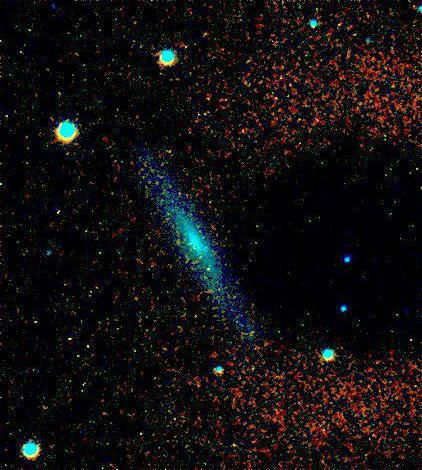star: (204, 251, 234, 281)
